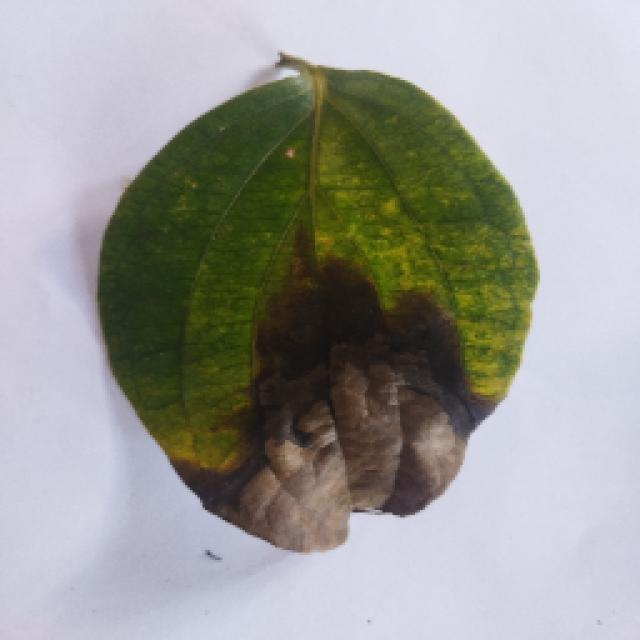footrot: (82, 60, 548, 555)
